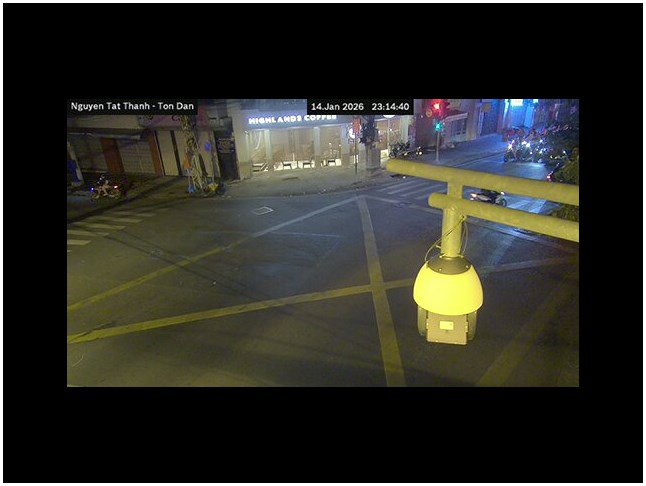car: (462, 186, 505, 205)
